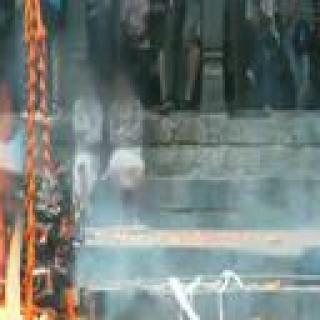fire: (0, 111, 30, 320)
